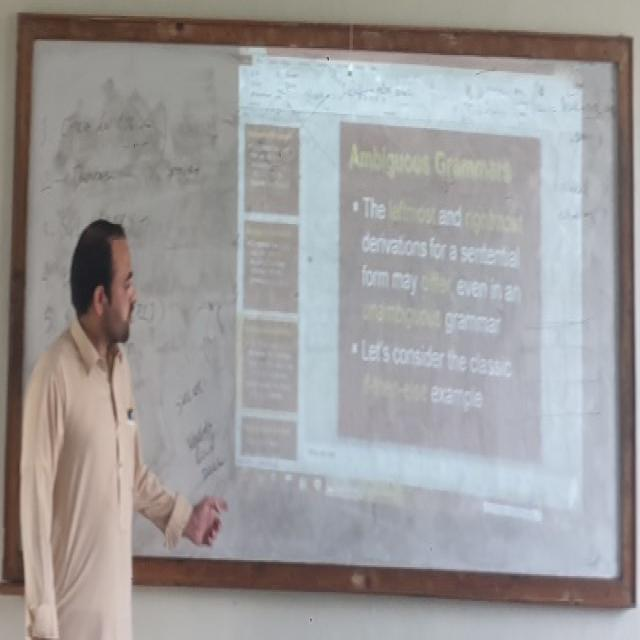Instructor: (29, 207, 138, 625)
Slide: (234, 41, 581, 535)
White-board: (10, 21, 626, 601)
